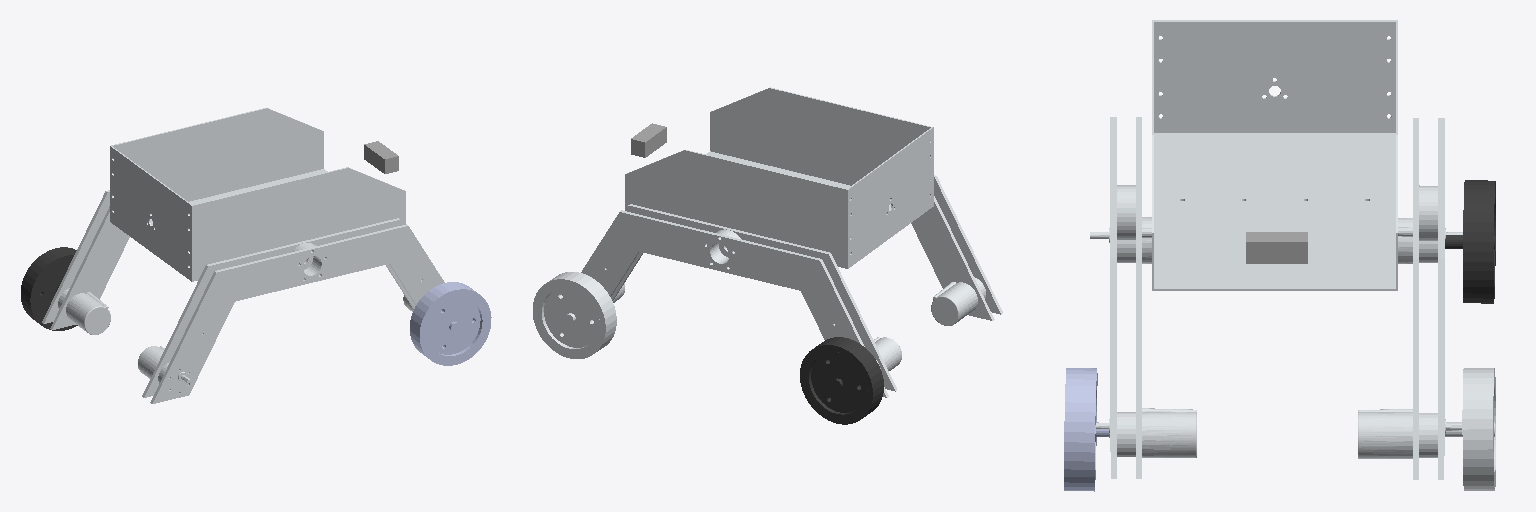
The robot description file, URDF, robot "sagan":
<?xml version="1.0"?>
<robot xmlns:xacro="http://www.ros.org/wiki/xacro" name="sagan">
 <!--  <pose>0 0 0.4 0 0 0</pose>
 <link name="base_link">
    <origin
      xyz="0 0 0"
      rpy="0 0 0" />
  </link >
  <joint name="base_link_to_sagan_link=" type="fixed">
    <parent link="base_link"/>
    <child link="sagan_link"/>
    <origin
      xyz="0 0 0.150"
      rpy="0 0 0" />
  </joint>-->
  <link  name="sagan_link">
    <origin
        xyz="0.0249786097496162 0.00158090414679702 0.384335554461826"
        rpy="0 0 0.384335554461826" />
    <inertial>
      <origin
        xyz="0.0249786097496162 0.00158090414679702 0.384335554461826"
        rpy="0 0 0.384335554461826" />
      <mass
        value="0.27066592924889" />
      <inertia
        ixx="0.6022"
        ixy="-0.02364"
        ixz="-0.1197"
        iyy="1.7386"
        iyz="-0.001544"
        izz="2.0296" />
    </inertial>
    <visual>
      <origin
        xyz="0 0 0"
        rpy="0 0 0" />
      <geometry>
        <mesh
          filename="model://meshes/base_link.STL" />
      </geometry>
      <material
        name="">
        <color
          rgba="0.898039215686275 0.917647058823529 0.929411764705882 1" />
      </material>
    </visual>
    <collision>
      <origin
        xyz="0 0 0.384335554461826"
        rpy="0 0 0.384335554461826" />
      <geometry>
        <mesh
          filename="model://meshes/base_link.STL" />
      </geometry>
    </collision>
  </link>
  <link  name="Susp_right">
    <inertial>
      <origin
        xyz="1.91516963860688E-07 -0.050740645517996 -0.0172301314016279"
        rpy="0 0 0" />
      <mass
        value="0.561111370318225" />
      <inertia
        ixx="0.00129127869130011"
        ixy="0"
        ixz="0"
        iyy="0.00662831035722674"
        iyz="-0.000306651386400898"
        izz="0.00760703794507664" />
    </inertial>
    <visual>
      <origin
        xyz="0 0 0"
        rpy="0 0 0" />
      <geometry>
        <mesh
          filename="model://meshes/Susp_right.STL" />
      </geometry>
      <material
        name="">
        <color
          rgba="0.898039215686275 0.917647058823529 0.929411764705882 1" />
      </material>
    </visual>
    <collision>
      <origin
        xyz="0 0 0"
        rpy="0 0 0" />
      <geometry>
        <mesh
          filename="model://meshes/Susp_right.STL" />
      </geometry>
    </collision>
  </link>
  <joint name="Susp_right_join"
    type="fixed">
    <origin
      xyz="0 -0.130 0"
      rpy="-1.57 0 0" />
    <parent
      link="sagan_link" />
    <child
      link="Susp_right" />
    <axis
      xyz="0 0 1" />
  </joint>
  <link  name="FR_wheel">
    <inertial>
      <mass
        value="0.156306129053996" />
      <inertia
        ixx="0.01"
        ixy="0.000"
        ixz="0"
        iyy="0.01"
        iyz="0"
        izz="0.01" />
    </inertial>
    <visual>
      <geometry>
        <mesh
          filename="model://meshes/FR_wheel.STL" />
      </geometry>
      <material
        name="">
        <color
          rgba="0.796078431372549 0.823529411764706 0.937254901960784 1" />
      </material>
    </visual>
    <collision>
      <origin
        xyz="0 0 0"
        rpy="0 0 0" />
      <geometry>
        <mesh
          filename="model://meshes/FL_wheel.STL" />
      </geometry>
	 <!--<mu1 value="100.0" />
	<mu2 value="100.0" />-->
    </collision>
  </link>
  <joint name="FRW_join"
    type="continuous">
    <origin
      xyz="0.180 0.110 -0.025"
      rpy="3.14 0 0" />
    <parent
      link="Susp_right" />
    <child
      link="FR_wheel" />
    <axis
      xyz="0 0 1" />
  <!--<limit effort="1000.0" lower="-1E15" upper="1E15" velocity="1E15"/>-->
  </joint>
  <link  name="BR_wheel">
    <inertial>
      <mass
        value="0.156306129053996" />
      <inertia
        ixx="0.01"
        ixy="0.000"
        ixz="0"
        iyy="0.01"
        iyz="0"
        izz="0.01" />
    </inertial>
    <visual>
      <origin
        xyz="0 0 0"
        rpy="0 0 0" />
      <geometry>
        <mesh
          filename="model://meshes/BR_wheel.STL" />
      </geometry>
      <material
        name="">
        <color
          rgba="0.298039215686275 0.298039215686275 0.298039215686275 1" />
      </material>
    </visual>
    <collision>
      <origin
        xyz="0 0 0"
        rpy="0 0 0" />
      <geometry>
        <mesh
          filename="model://meshes/BR_wheel.STL" />
      </geometry>
	 <!--<mu1 value="100.0" />
	<mu2 value="100.0" />-->
    </collision>
  </link>
  <joint name="BRW_join"
    type="continuous">
    <origin
      xyz="-0.180 0.110 -0.025"
      rpy="3.14 0 0" />
    <parent
      link="Susp_right" />
    <child
      link="BR_wheel" />
    <axis
      xyz="0 0 1" />
  </joint>
  <link  name="Susp_left">
    <inertial>
      <origin
        xyz="0 0 0"
        rpy="0 0 0" />
      <mass
        value="0.561111372554467" />
      <inertia
        ixx="0.01"
        ixy="0.000"
        ixz="0"
        iyy="0.01"
        iyz="0"
        izz="0.01" />
    </inertial>
    <visual>
      <origin
        xyz="0 0 0"
        rpy="0 0 0" />
      <geometry>
        <mesh
          filename="model://meshes/Susp_left.STL" />
      </geometry>
      <material
        name="">
        <color
          rgba="0.898039215686275 0.917647058823529 0.929411764705882 1" />
      </material>
    </visual>
    <collision>
      <origin
        xyz="0 0 0"
        rpy="0 0 0" />
      <geometry>
        <mesh
          filename="model://meshes/Susp_left.STL" />
      </geometry>
    </collision>
  </link>
  <joint name="Susp_left_join"
    type="fixed">
    <origin
      xyz="0 0.110 0"
      rpy="1.57 0 0" />
    <parent
      link="sagan_link" />
    <child
      link="Susp_left" />
    <axis
      xyz="0 1 0" />
  </joint>
  <link  name="FL_wheel">
    <inertial>
      <origin
        xyz="2.77555756156289E-17 0 0.0309919737738157"
        rpy="0 0 0" />
      <mass
        value="0.156306129053996" />
      <inertia
        ixx="0.01"
        ixy="0.000"
        ixz="0"
        iyy="0.01"
        iyz="0"
        izz="0.01" />
    </inertial>
    <visual>
      <origin
        xyz="0 0 0"
        rpy="0 0 0" />
      <geometry>
        <mesh
          filename="model://meshes/FL_wheel.STL" />
      </geometry>
      <material
        name="">
        <color
          rgba="0.898039215686275 0.917647058823529 0.929411764705882 1" />
      </material>
    </visual>
    <collision>
      <origin
        xyz="0 0 0"
        rpy="0 0 0" />
      <geometry>
        <mesh
          filename="model://meshes/FL_wheel.STL" />
      </geometry>
	 <!--<mu1 value="100.0" />
	<mu2 value="100.0" />-->
    </collision>
  </link>
  <joint name="FLW_join"
    type="continuous">
    <origin
      xyz="0.180 -0.110 -0.050"
      rpy="-3.14 0 0" />
    <parent
      link="Susp_left" />
    <child
      link="FL_wheel" />
    <axis
      xyz="0 0 1" />
  </joint>
  <link  name="BL_wheel">
    <inertial>
      <origin
        xyz="1.38777878078145E-17 2.77555756156289E-17 0.0309919737738156"
        rpy="0 0 0" />
      <mass
        value="0.156306129053996" />
      <inertia
        ixx="0.01"
        ixy="0"
        ixz="0"
        iyy="0.01"
        iyz="0"
        izz="0.01" />
    </inertial>
    <visual>
      <origin
        xyz="0 0 0"
        rpy="0 0 0" />
      <geometry>
        <mesh
          filename="model://meshes/BL_wheel.STL" />
      </geometry>
      <material
        name="">
        <color
          rgba="0.298039215686275 0.298039215686275 0.298039215686275 1" />
      </material>
    </visual>
    <collision>
      <origin
        xyz="0 0 0"
        rpy="0 0 0" />
      <geometry>
        <mesh
          filename="model://meshes/BL_wheel.STL" />
      </geometry>
	 <!--<mu1 value="100.0" />
	<mu2 value="100.0" />-->
    </collision>
  </link>
  <joint name="BLW_join"
    type="continuous">
    <origin
      xyz="-0.180 -0.110 -0.050"
      rpy="-3.14 0 0" />
    <parent
      link="Susp_left" />
    <child
      link="BL_wheel" />
    <!--<limit effort="1000.0" lower="0.0" upper="0.548" velocity="0.5"/>-->
    <axis
      xyz="0 0 1" />
  </joint>

  <gazebo>
    <plugin name="sagan_plugin" filename="libsagan_plugin.so">
    </plugin>
  </gazebo>

  <!-- definição ultrassonico -->
  <link name="hcsr04_link">
   <collision>
     <origin xyz="0 0 0" rpy="0 0 0"/>
     <geometry>
   <box size="0.02 0.05 0.02"/>
     </geometry>
   </collision>

   <visual>
     <origin xyz="0 0 0" rpy="0 0 0"/>
     <geometry>
   <box size="0.02 0.05 0.02"/>
     </geometry>
   </visual>

   <inertial>
     <mass value="1e-3" />
     <origin xyz="0 0 0" rpy="0 0 0"/>
     <inertia ixx="1e-3" ixy="0" ixz="0" iyy="1e-3" iyz="0" izz="1e-3" />
   </inertial>
 </link>

   <!-- Junta -->
   <joint name="hcsr04_joint" type="fixed">
   <axis xyz="0 1 0" />
   <origin xyz="0.175 0 0.05" rpy="0 0 0"/>
   <parent link="sagan_link"/>
   <child link="hcsr04_link"/>
 </joint>

  <!-- Plugin parametros ultrassonico -->
   <gazebo reference="hcsr04_link">
   <sensor type="ray" name="hcsr04_sensor">
     <pose>0 0 0 0 0 0</pose>
     <visualize>true</visualize>
     <update_rate>10</update_rate>
     <ray>
       <scan>
         <horizontal>
           <samples>10</samples>
           <resolution>1</resolution>
           <min_angle>-0.131</min_angle>
           <max_angle>0.131</max_angle>
         </horizontal>
   <vertical>
           <samples>10</samples>
           <resolution>1</resolution>
           <min_angle>-0.131</min_angle>
           <max_angle>0.131</max_angle>
         </vertical>
       </scan>
       <range>
         <min>0.05</min>
         <max>3.50</max>
         <resolution>1</resolution>
       </range>
       <noise>
         <type>gaussian</type>
         <!-- Noise parameters based on published spec for Hokuyo laser
              achieving "+-30mm" accuracy at range < 10m.  A mean of 0.0m and
              stddev of 0.01m will put 99.7% of samples within 0.03m of the true
              reading. -->
         <mean>0.0</mean>
         <stddev>0.01</stddev>
       </noise>
     </ray>
     <plugin name="gazebo_ros_hcsr04_controller" filename="libgazebo_ros_laser.so">
       <topicName>/sagan_gazebo/laser/scan</topicName>
       <frameName>hcsr04_link</frameName>
     </plugin>
   </sensor>
 </gazebo>




</robot>

--- Render facts (derived) ---
The picture shows the robot from 3 angles, left to right: view 1: azimuth 30°, elevation 25°; view 2: azimuth 150°, elevation 25°; view 3: azimuth 270°, elevation 25°; orthographic projection.
Robot: sagan — 8 links, 7 joints (4 continuous, 3 fixed); root link sagan_link; default pose: every joint at zero.
Visible links, largest first — view 1: sagan_link, Susp_right, Susp_left, FR_wheel, BL_wheel, hcsr04_link; view 2: sagan_link, Susp_left, Susp_right, FL_wheel, BL_wheel, hcsr04_link; view 3: sagan_link, Susp_left, Susp_right, BL_wheel, FL_wheel, FR_wheel, hcsr04_link.
Boxes of the visible links, x1,y1,x2,y2 form: sagan_link: (110, 108, 405, 281); Susp_right: (138, 218, 444, 403); Susp_left: (42, 190, 129, 334); FR_wheel: (410, 282, 491, 365); BL_wheel: (21, 247, 77, 330); hcsr04_link: (364, 141, 398, 173); sagan_link: (625, 87, 933, 268); Susp_left: (581, 204, 901, 397); Susp_right: (911, 175, 1002, 325); FL_wheel: (533, 272, 616, 358); BL_wheel: (800, 337, 883, 424); hcsr04_link: (631, 123, 666, 157); sagan_link: (1152, 20, 1397, 290); Susp_left: (1358, 118, 1462, 479); Susp_right: (1090, 117, 1196, 478); BL_wheel: (1445, 180, 1495, 303); FL_wheel: (1445, 368, 1495, 490); FR_wheel: (1064, 368, 1109, 491); hcsr04_link: (1246, 232, 1307, 263).
Bounding box of the posed robot: 0.4605 × 0.3508 × 0.2622 m (x, y, z).
Meshes: 7 distinct files referenced, 6 mesh visuals loaded (6 binary STL); not drawn: 1 (reference not matched to a file when rendering).
